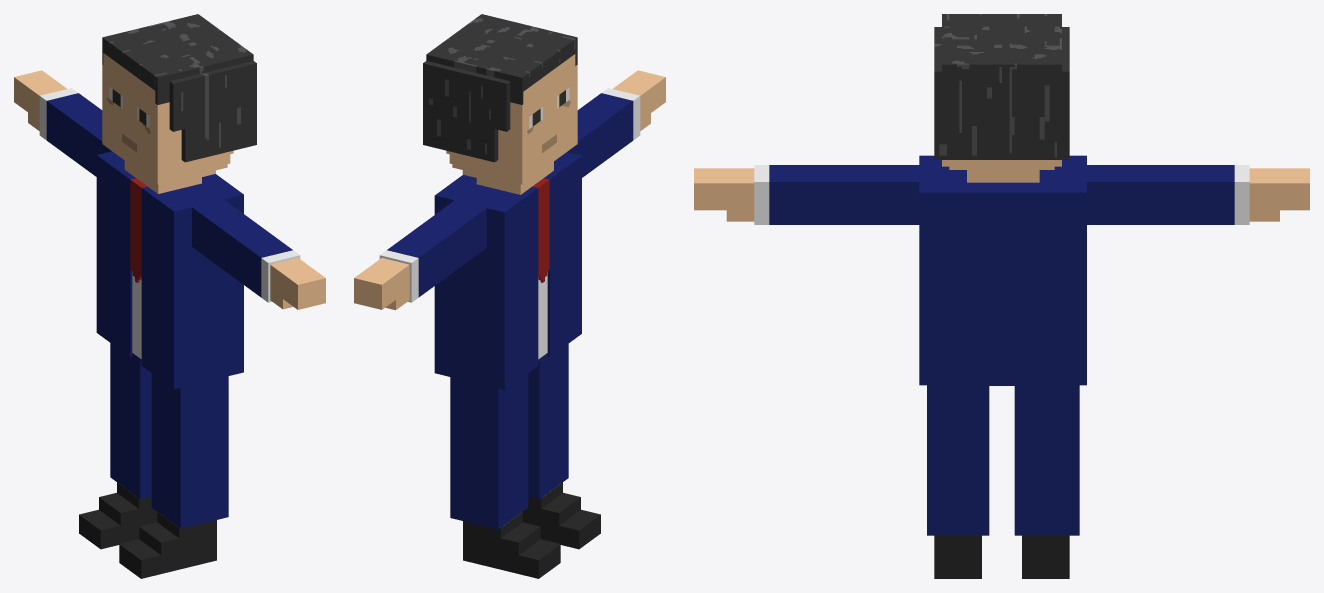
File: male_char13.obj
3 views of the same model, side by side, from view 1: azimuth 30°, elevation 25°; view 2: azimuth 150°, elevation 25°; view 3: azimuth 270°, elevation 25° (orthographic). The views are drawn at different scales.
Size of the model in its own units: 5.8 by 23.6 by 24.6.
Materials: 1 (1 with a texture image).
